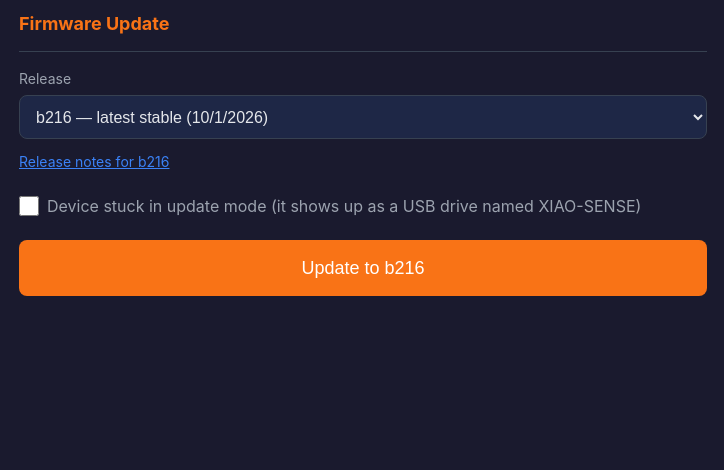
FirmwarePage › updates over USB and offers no Bluetooth option while BLE is unproven
The image size is (724, 470).
Step 1. Click the button "Update to b216" → (363, 268), box [19,240,707,296]
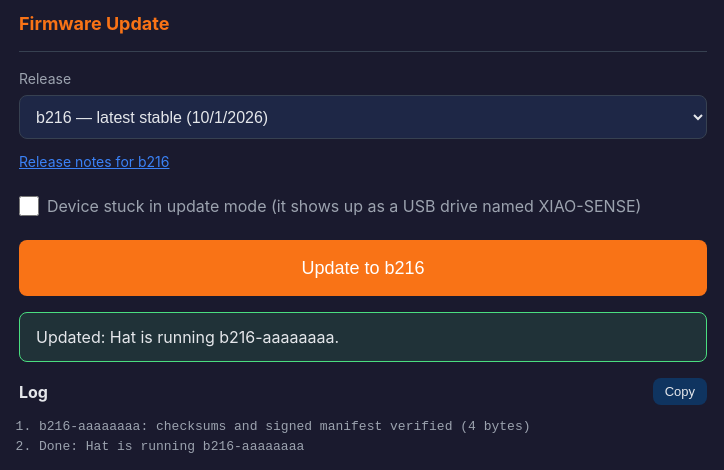
Now the text "Updated: Hat is running b216-aaaaaaaa." is shown, box [19,312,707,362]
